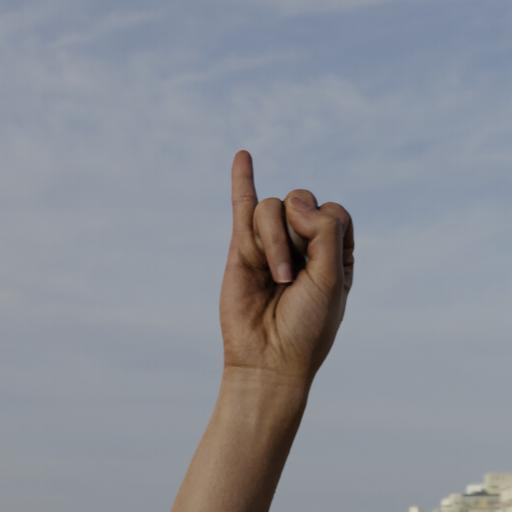I: (214, 147, 358, 385)
